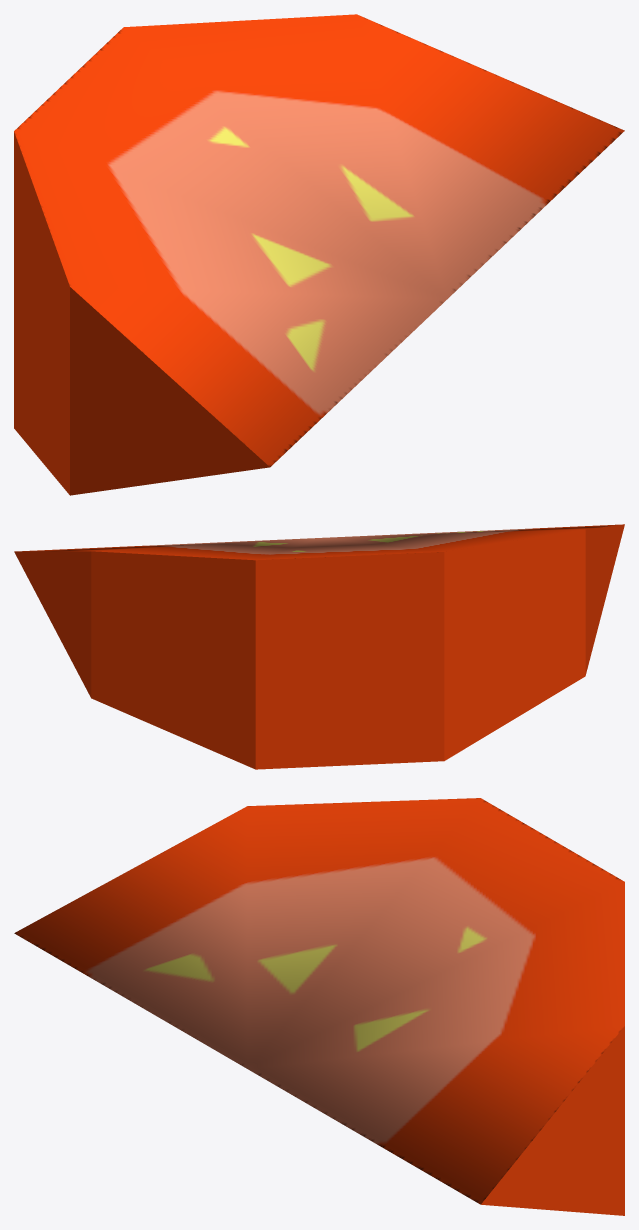
File: Tomato.fbx
3 renders of one model, top to bottom at view 1: azimuth 30°, elevation 25°; view 2: azimuth 150°, elevation 25°; view 3: azimuth 270°, elevation 25°, orthographic. The views are drawn at different scales.
Parts seen in each view (by area): view 1: pCylinder8; view 2: pCylinder8; view 3: pCylinder8.
Boxes of the visible parts, x1,y1,x2,y2 form: pCylinder8: (14,14,624,495); pCylinder8: (14,524,624,769); pCylinder8: (14,798,624,1215).
Bounding box in the file's own units: 1.14 × 0.4755 × 0.9732.
Materials: 1 (1 with a texture image).
